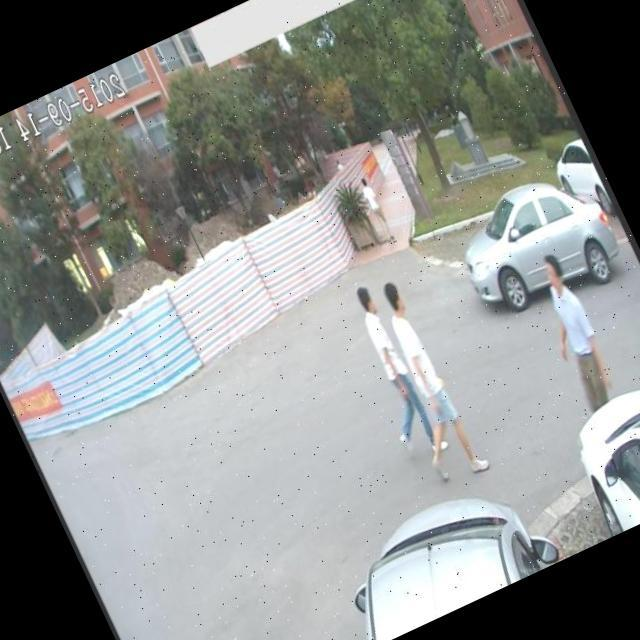person: (367, 272, 496, 490), (330, 278, 446, 465), (517, 247, 628, 416), (352, 172, 401, 250)
